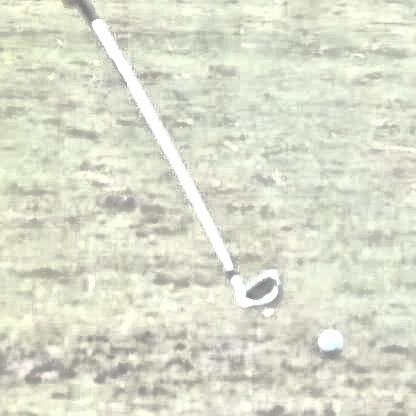golfball: (314, 326, 341, 354)
